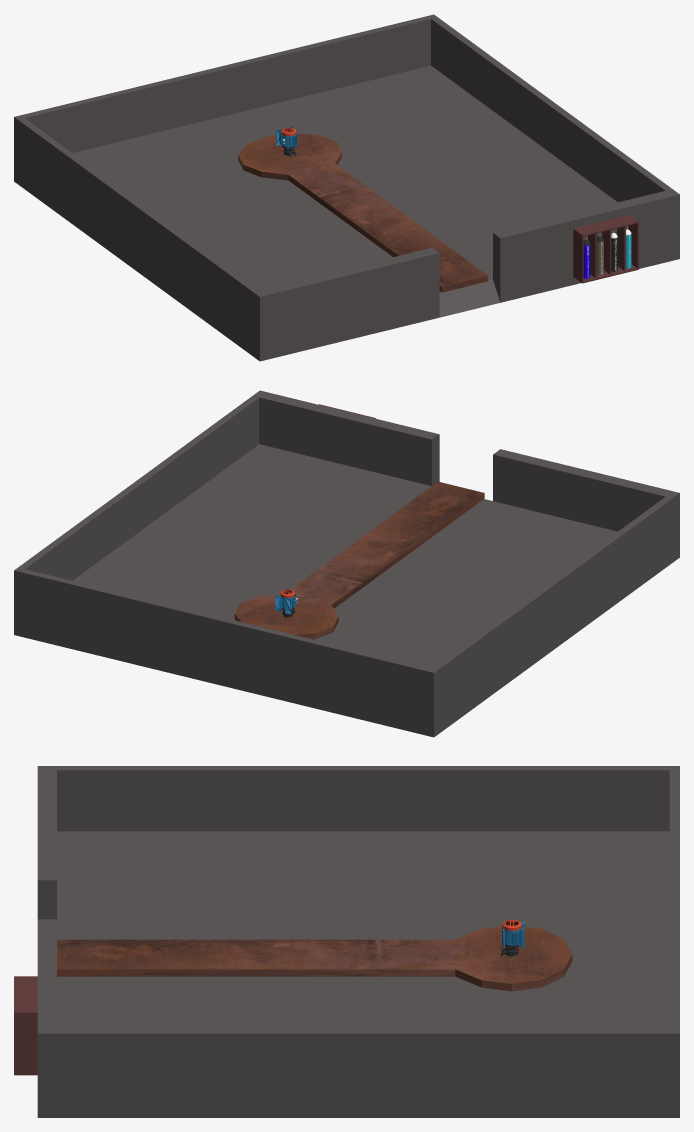
Rendered from aerater pond.fbx.
3 renders of one model, top to bottom at view 1: azimuth 30°, elevation 25°; view 2: azimuth 150°, elevation 25°; view 3: azimuth 270°, elevation 25°, orthographic. The views are drawn at different scales.
Parts seen in each view (by area): view 1: motor; view 2: motor; view 3: motor.
Boxes of the visible parts, left/top/right/bottom form: motor: left=14, top=14, right=679, bottom=361; motor: left=14, top=390, right=679, bottom=737; motor: left=14, top=766, right=679, bottom=1117.
Bounding box in the file's own units: 9.13 × 1.34 × 9.6.
